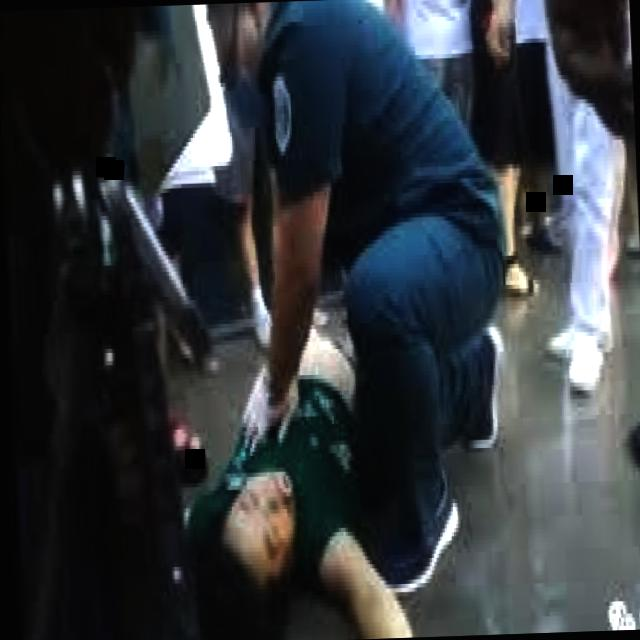Fall-Detected: (171, 290, 463, 640)
